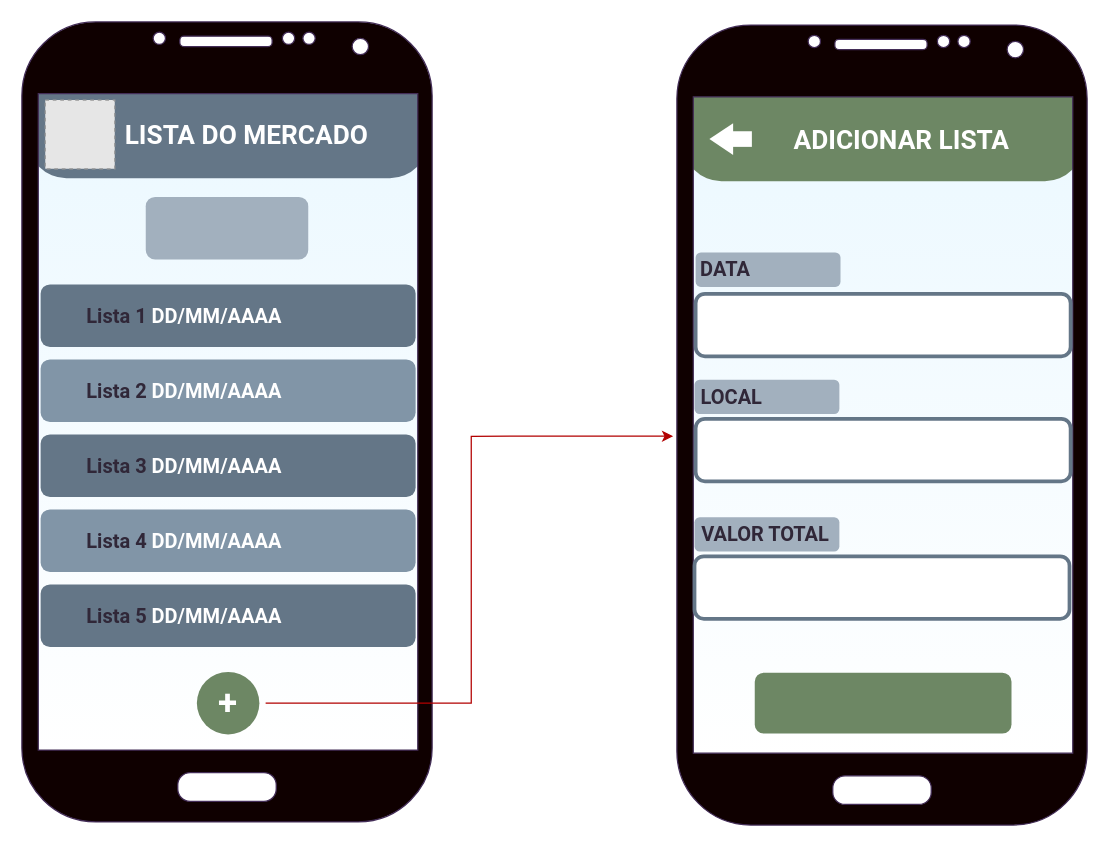
This 1110x848 diagram has some shape labels left out. Grey dashed boxes stand in for pictures. The shapes that lost their labels are listed below. From the top down, each one's centre as x and y in pixels, then its label:
At [226,227]: "MINHAS LISTAS".
At [882,702]: "ADICIONAR ITENS".
